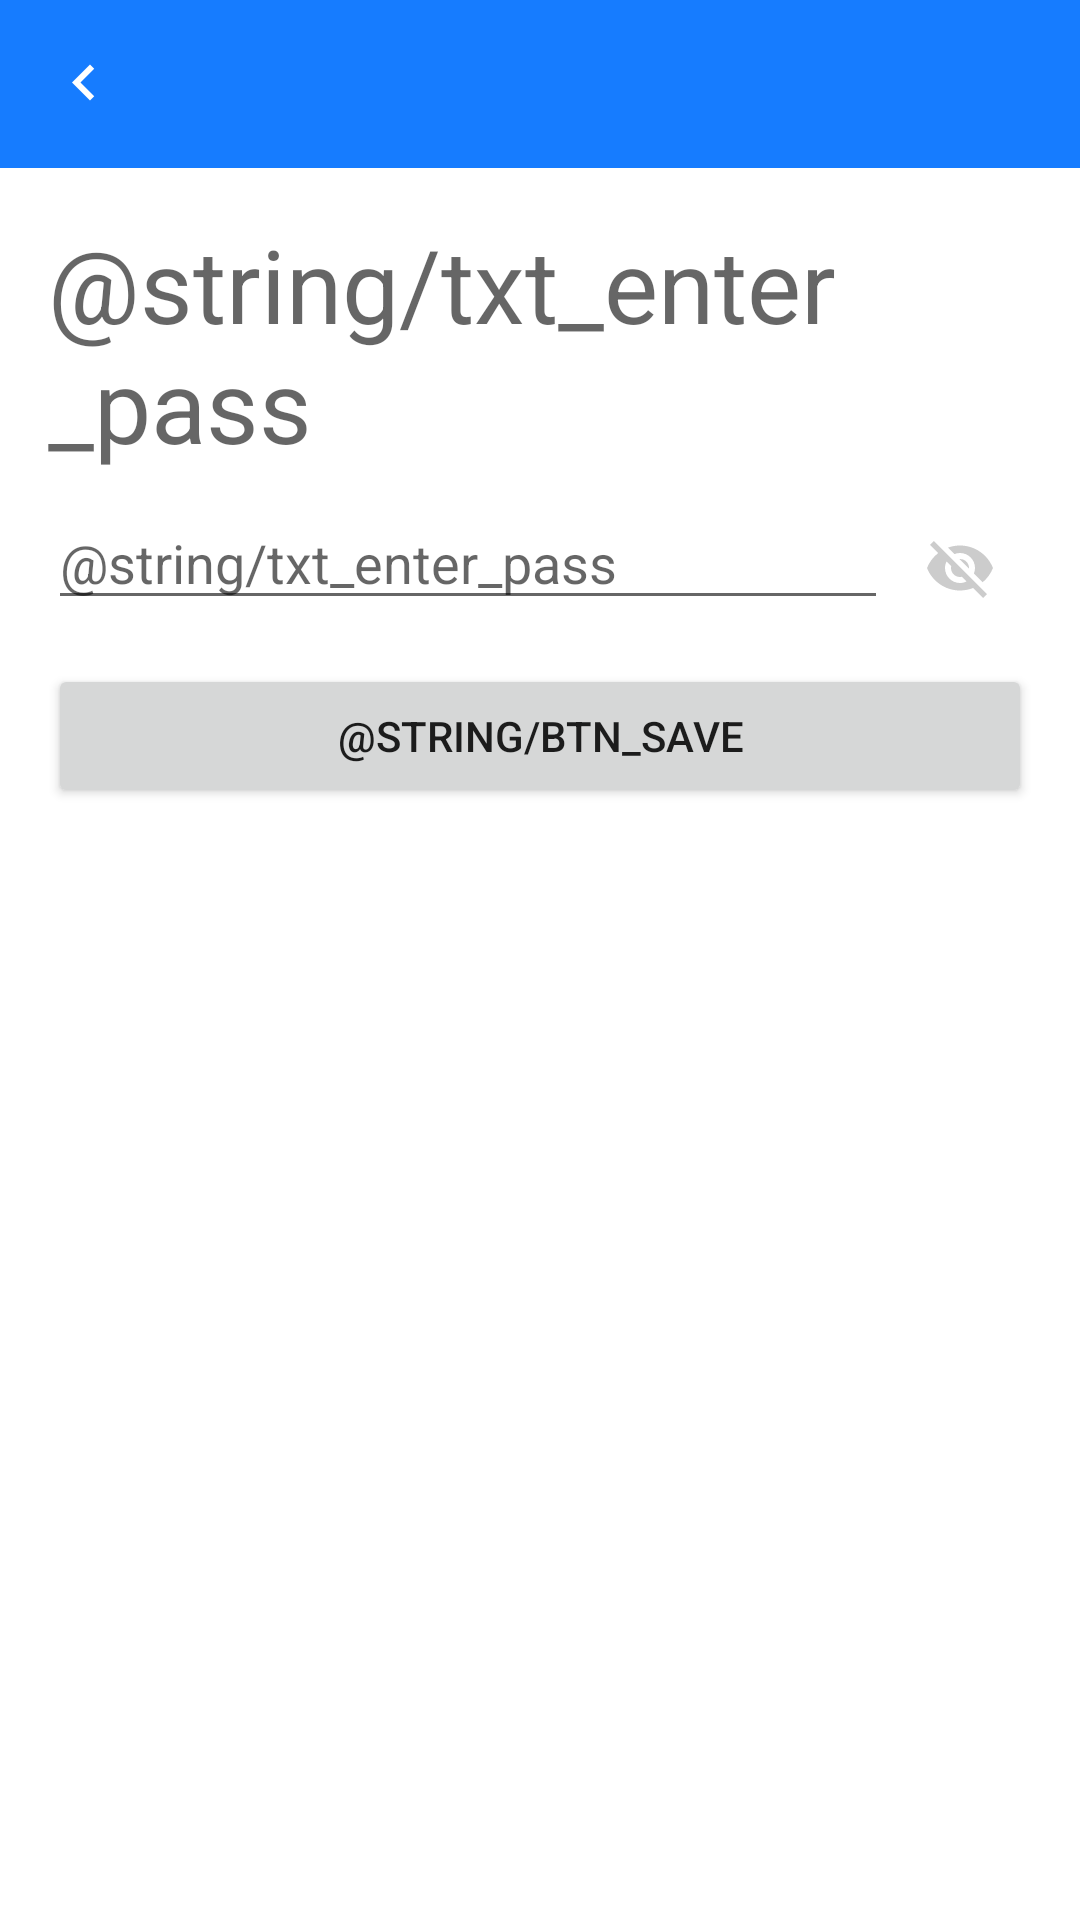

Named icons in this screenshot (1080px×1920px) and their bounding boxes, (x1, y1, x2, y2):
visibility off: (927, 541, 993, 598)
